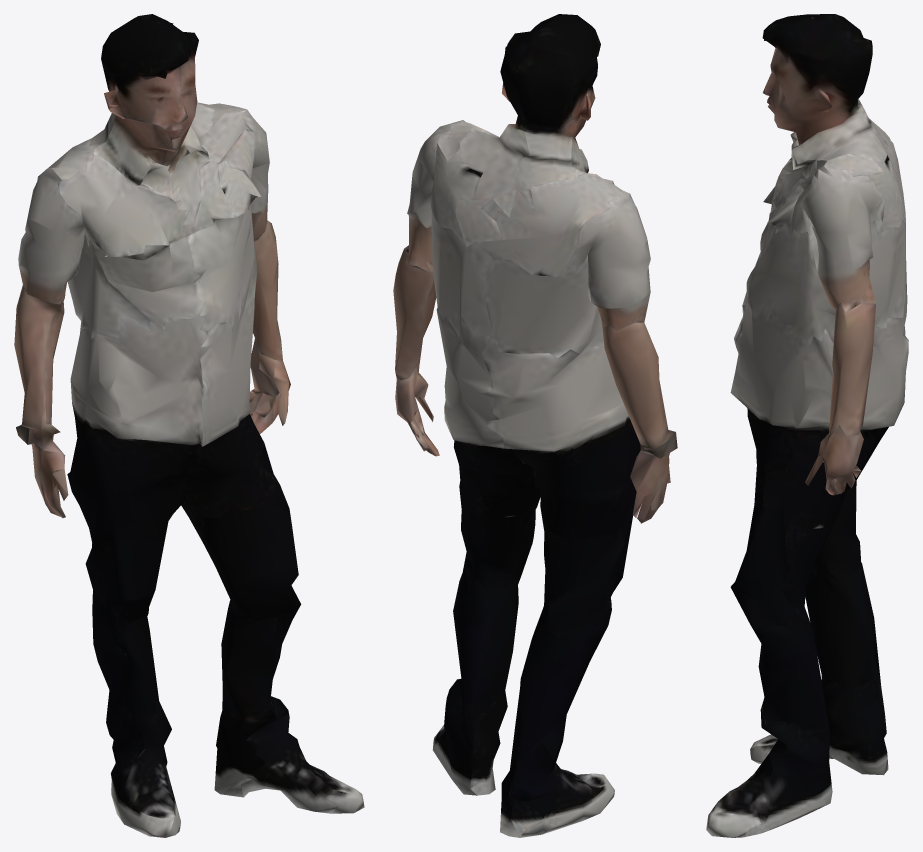
File: intelmob_idle_lod2.glb
3 renders of one model, left to right at view 1: azimuth 30°, elevation 25°; view 2: azimuth 150°, elevation 25°; view 3: azimuth 270°, elevation 25°, orthographic. The views are drawn at different scales.
Visible parts, largest first — view 1: tripo_node_ba0bf59e; view 2: tripo_node_ba0bf59e; view 3: tripo_node_ba0bf59e.
Boxes of the visible parts, x1=… form: tripo_node_ba0bf59e: x1=14, y1=14, x2=364, y2=837; tripo_node_ba0bf59e: x1=393, y1=14, x2=677, y2=837; tripo_node_ba0bf59e: x1=706, y1=14, x2=908, y2=837.
Size of the model in its own units: 37.14 by 98.51 by 24.09.
Materials: 1 (1 with a texture image).
